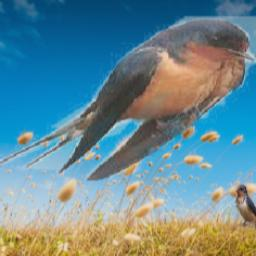Swallow: (0, 17, 256, 182), (234, 185, 256, 236)
